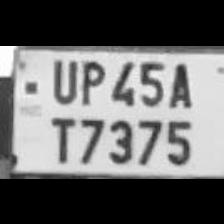3: (104, 113, 134, 166)
4: (105, 55, 136, 105)
5: (160, 115, 194, 165), (134, 55, 166, 105)
7: (74, 113, 104, 166), (132, 114, 162, 164)
A: (164, 58, 196, 108)
P: (75, 56, 105, 106)
T: (43, 110, 76, 166)
U: (47, 53, 77, 103)
